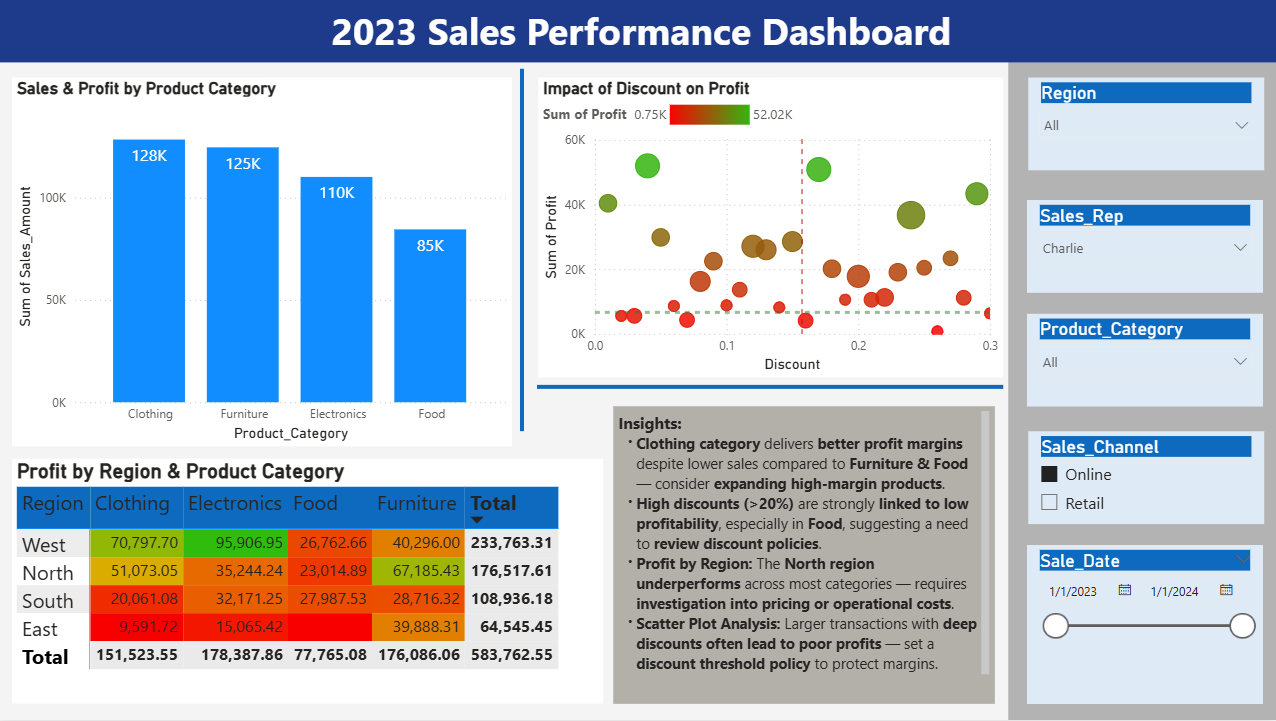

This screenshot's page, from the dashboard's own definition file:
{"tool":"powerbi","page":{"name":"Page 2","canvas":[1280,720],"ordinal":1},"visuals":[{"type":"clusteredColumnChart","title":"Sales & Profit by Product Category","fields":{"Category":["sales_data.Product_Category"],"Y":["sales_data.Sales_Amount"]},"box":[15,77.5,500,368.8],"z":0},{"type":"pivotTable","title":"Profit by Region & Product Category","fields":{"Rows":["sales_data.Region"],"Columns":["sales_data.Product_Category"],"Values":["sales_data.Profit"]},"box":[15,458.8,591.2,245],"z":1000},{"type":"scatterChart","title":"Impact of Discount on Profit","fields":{"X":["sales_data.Discount"],"Y":["sales_data.Profit"],"Size":["sales_data.Sales_Amount"]},"box":[541.2,77.5,465,300],"z":2000},{"type":"shape","box":[1011.2,0,268.8,720],"z":3000},{"type":"slicer","fields":{"Values":["sales_data.Region"]},"box":[1031.2,77.5,236.2,92.5],"z":4000},{"type":"slicer","fields":{"Values":["sales_data.Sales_Rep"]},"box":[1030,200,236.2,92.5],"z":5000},{"type":"slicer","fields":{"Values":["sales_data.Product_Category"]},"box":[1030,313.8,236.2,92.5],"z":6000},{"type":"slicer","fields":{"Values":["sales_data.Sales_Channel"]},"box":[1031.2,431.2,236.2,92.5],"z":7000},{"type":"slicer","fields":{"Values":["sales_data.Sale_Date"]},"box":[1030,545,236.2,158.8],"z":8000},{"type":"textbox","box":[616.2,406.2,381.2,297.5],"z":9000},{"type":"textbox","box":[0,0,1280,62.5],"z":10000},{"type":"shape","box":[492.5,68.8,65,362.5],"z":10001},{"type":"shape","box":[540,367.5,466.2,38.8],"z":10002}]}

Visuals, with their boxes in screenshot pixels (x1, y1, x2, y2), scaled from the page's 1280x720 canvas onto the 1276x721 screenshot:
"Sales & Profit by Product Category" clusteredColumnChart: detection(15, 78, 513, 447)
"Profit by Region & Product Category" pivotTable: detection(15, 459, 604, 705)
"Impact of Discount on Profit" scatterChart: detection(540, 78, 1003, 378)
shape: detection(1008, 0, 1275, 720)
slicer - sales_data.Region: detection(1028, 78, 1263, 170)
slicer - sales_data.Sales_Rep: detection(1027, 200, 1262, 293)
slicer - sales_data.Product_Category: detection(1027, 314, 1262, 407)
slicer - sales_data.Sales_Channel: detection(1028, 432, 1263, 524)
slicer - sales_data.Sale_Date: detection(1027, 546, 1262, 705)
textbox: detection(614, 407, 994, 705)
textbox: detection(0, 0, 1275, 63)
shape: detection(491, 69, 556, 432)
shape: detection(538, 368, 1003, 407)
